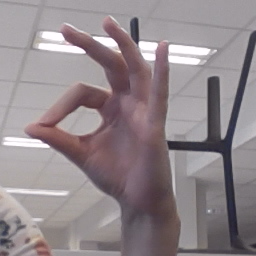O: (23, 15, 185, 194)
